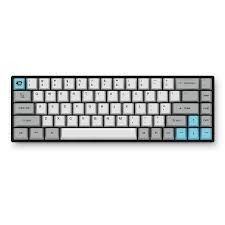keyboard: (8, 61, 216, 150)
